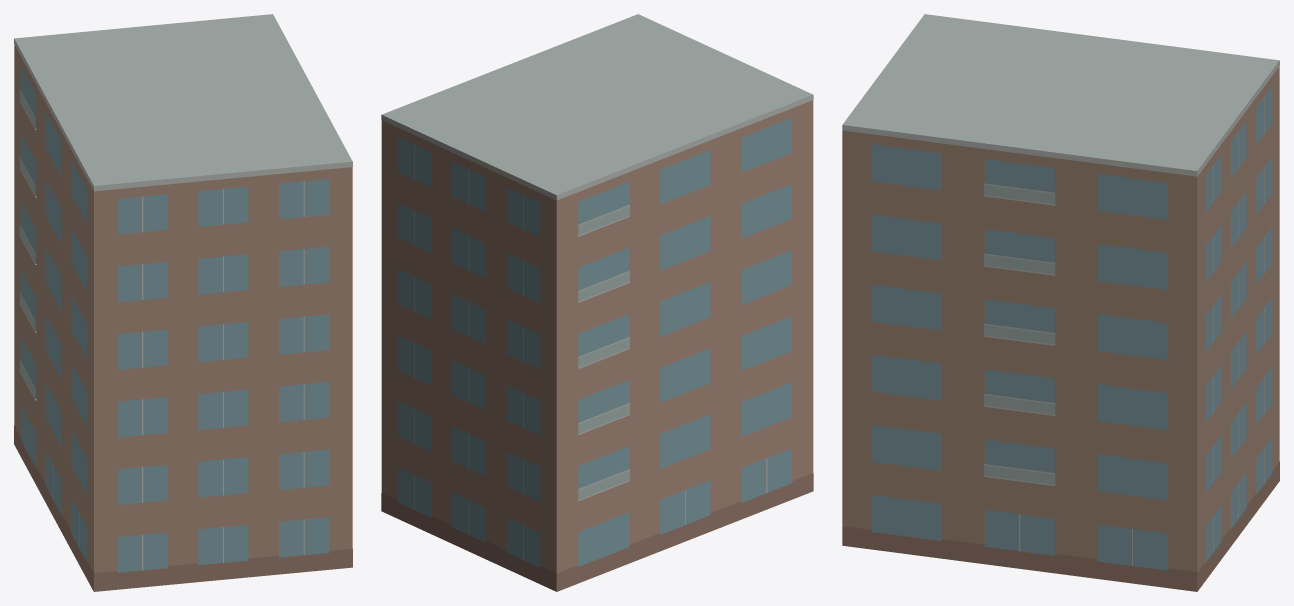
File: survey-upis-32526605.glb
3 renders of one model, left to right at view 1: azimuth 30°, elevation 25°; view 2: azimuth 150°, elevation 25°; view 3: azimuth 270°, elevation 25°, orthographic. The views are drawn at different scales.
Visible parts, largest first — view 1: survey-upis-32526605.tmp; view 2: survey-upis-32526605.tmp; view 3: survey-upis-32526605.tmp.
Boxes of the visible parts, x1=… form: survey-upis-32526605.tmp: x1=14, y1=14, x2=352, y2=591; survey-upis-32526605.tmp: x1=381, y1=14, x2=813, y2=591; survey-upis-32526605.tmp: x1=842, y1=14, x2=1279, y2=591.
Size of the model in its own units: 14.83 by 18.5 by 17.44.
